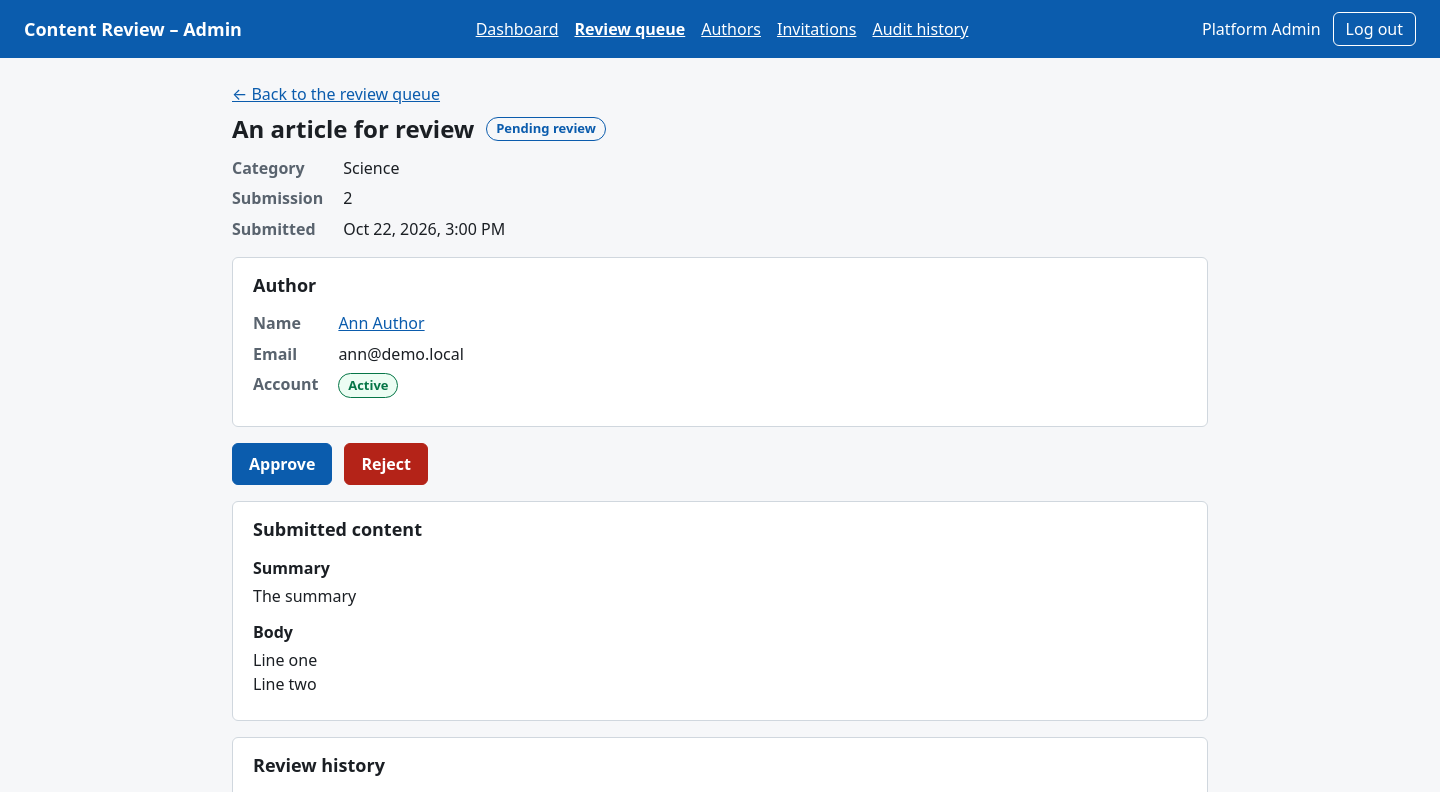
Scenario: approving › asks first and does nothing when cancelled
This screenshot has width=1440, height=792.
Expected: the heading "An article for review" is shown, [232, 114, 474, 144]
What coordinates should you click on to do the following:
click the button with test id "review-approve"
I would click on:
 (282, 464)
Its box is [232, 443, 332, 485].
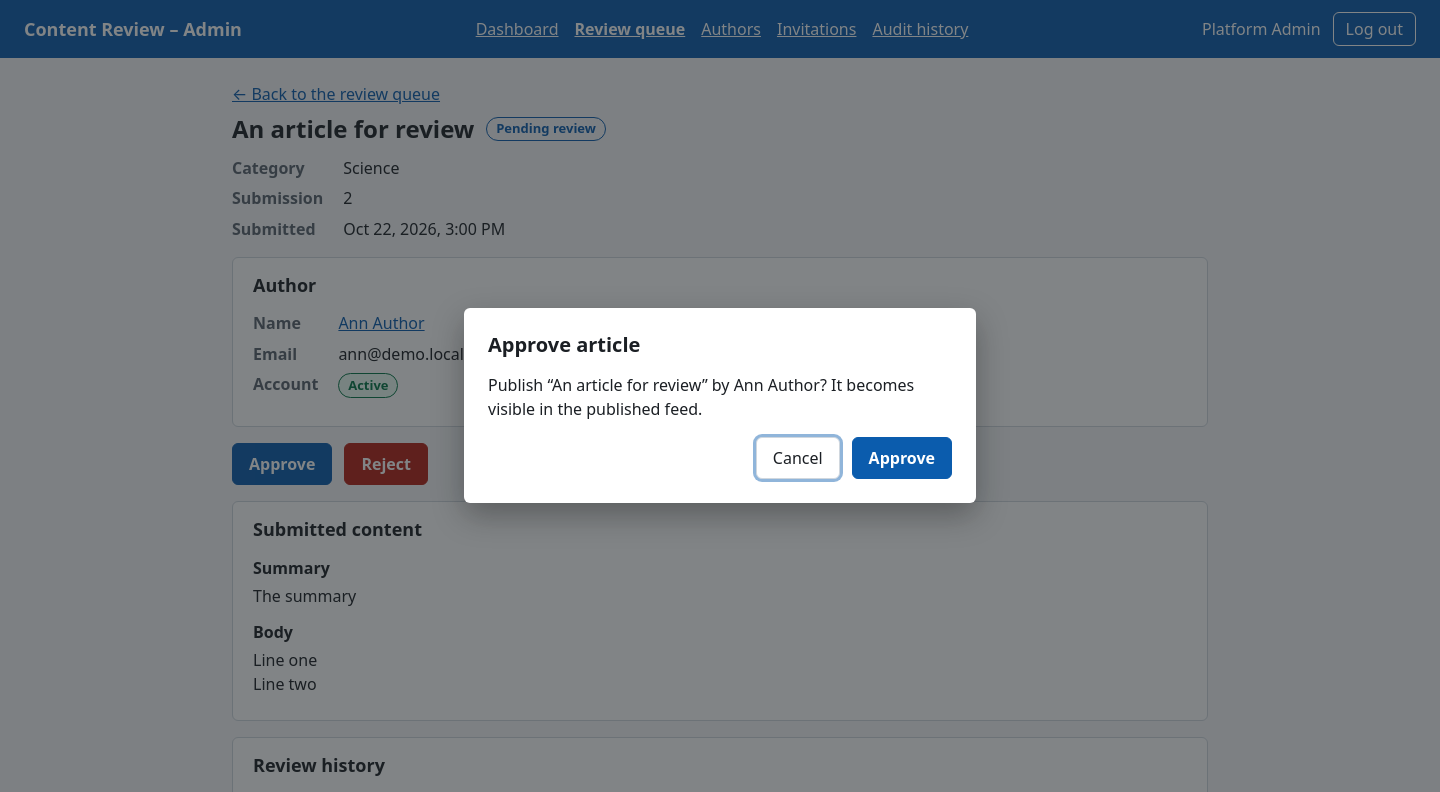
What coordinates should you click on to do the following:
click the button "Cancel"
I would click on:
 (798, 458)
Its box is [756, 436, 840, 478].
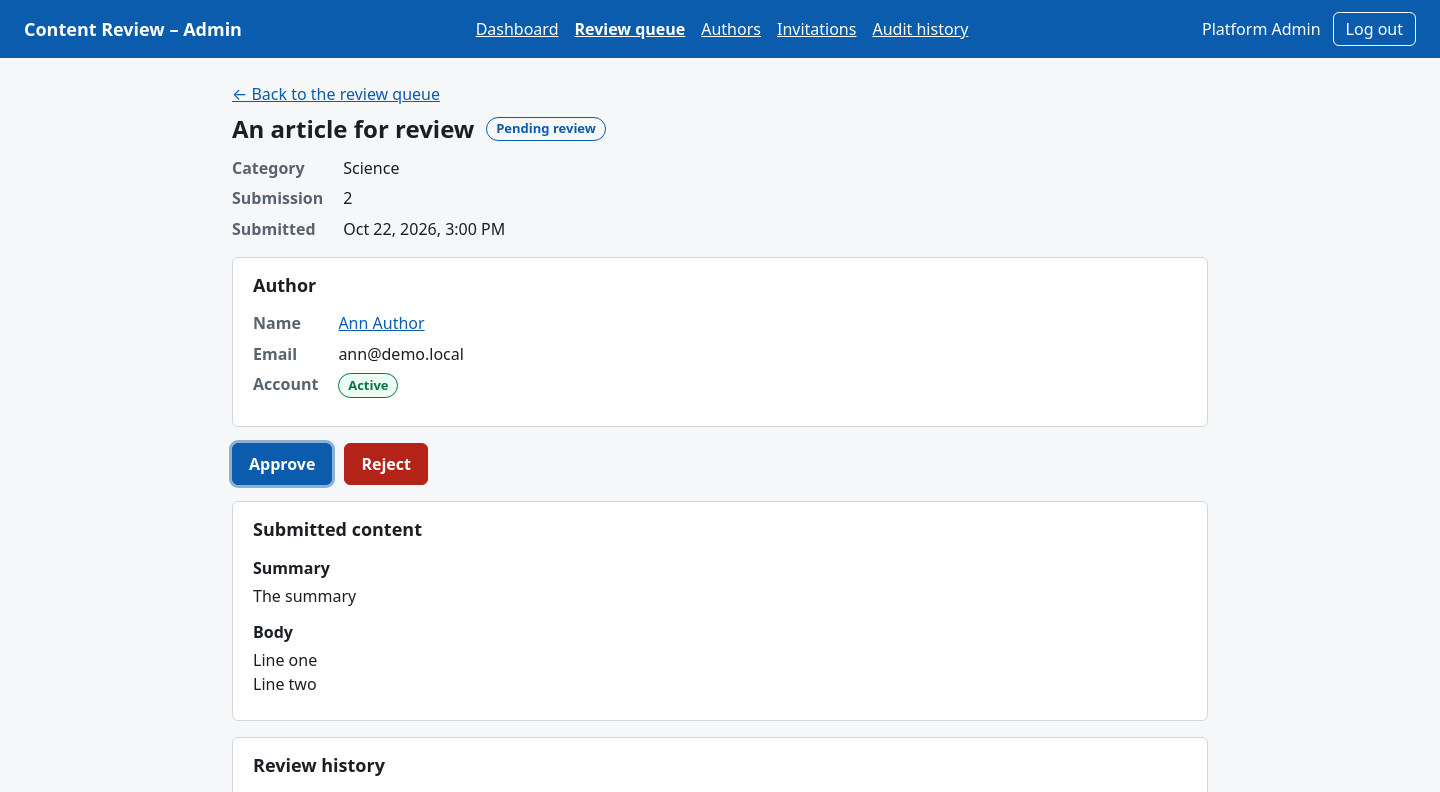
Expected: the dialog is gone
